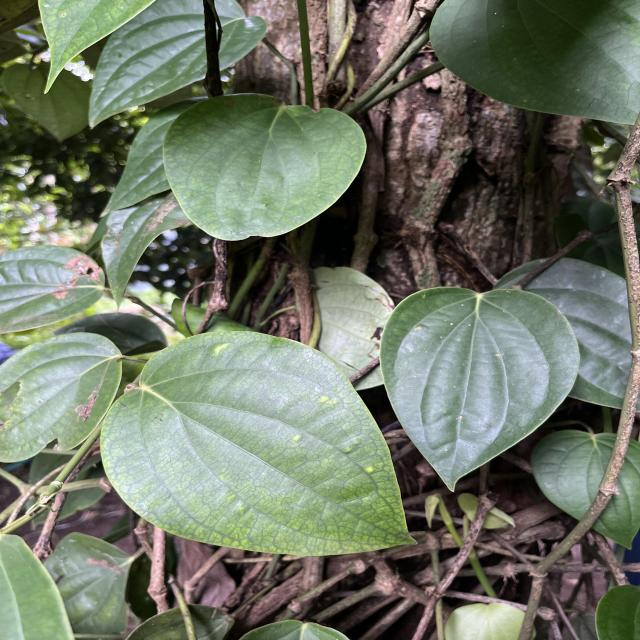Piper nigrum: (98, 330, 420, 558), (377, 285, 582, 495), (162, 92, 368, 242)
